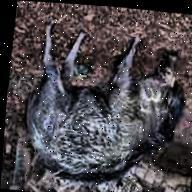boar: (20, 33, 192, 192)
